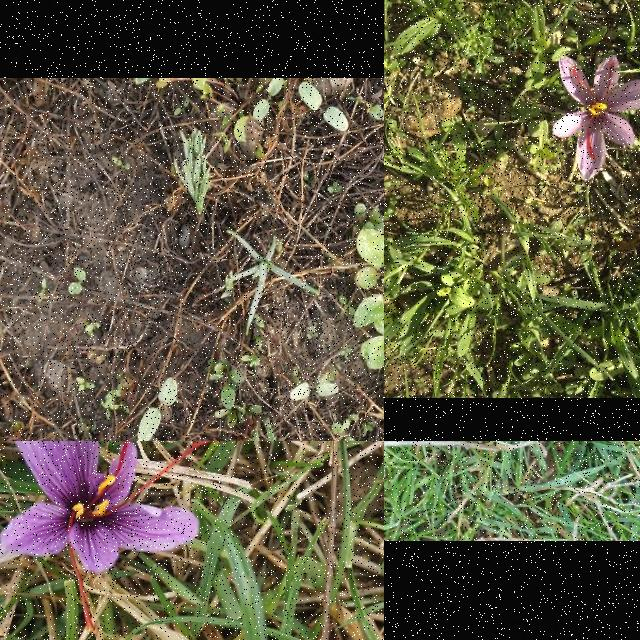flower: (0, 441, 224, 633), (554, 54, 640, 180)
